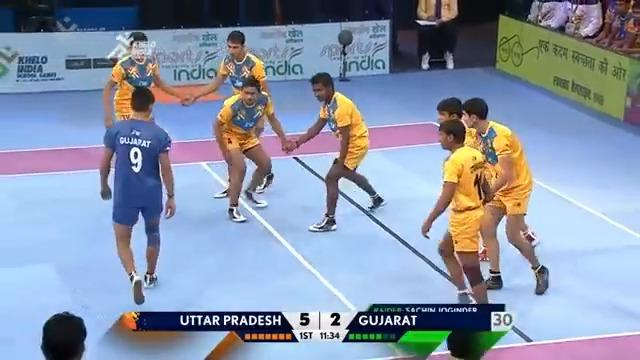Player: (460, 96, 549, 295), (283, 70, 388, 235), (181, 29, 280, 197), (210, 74, 291, 223), (431, 123, 486, 322), (98, 30, 149, 112), (435, 102, 472, 130)
Raider: (98, 85, 176, 305)
referee: (414, 0, 459, 70)
